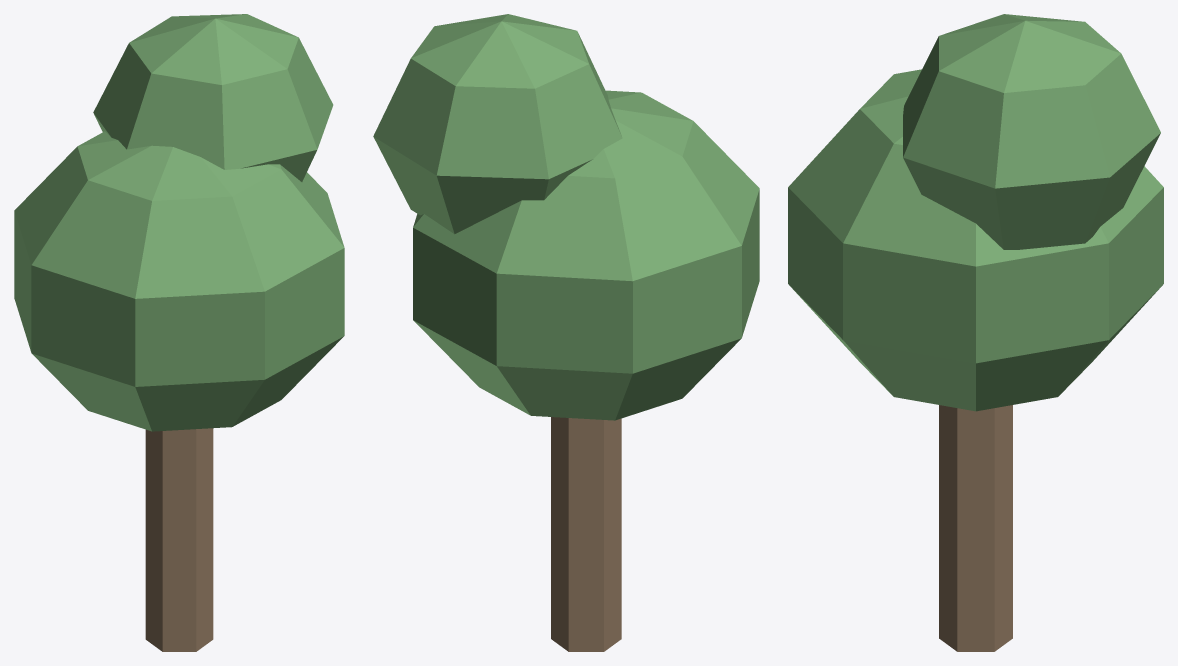
The model's file is tree.glb.
3 views of the same model, side by side, from view 1: azimuth 30°, elevation 25°; view 2: azimuth 150°, elevation 25°; view 3: azimuth 270°, elevation 25° (orthographic). The views are drawn at different scales.
Visible parts, largest first — view 1: tree; view 2: tree; view 3: tree.
Part boxes in pixels (x1,y1,x2,y2): tree: (14,14,344,651); tree: (373,14,759,651); tree: (788,14,1163,651).
Bounding box in the file's own units: 3.19 × 5.8 × 3.04.
